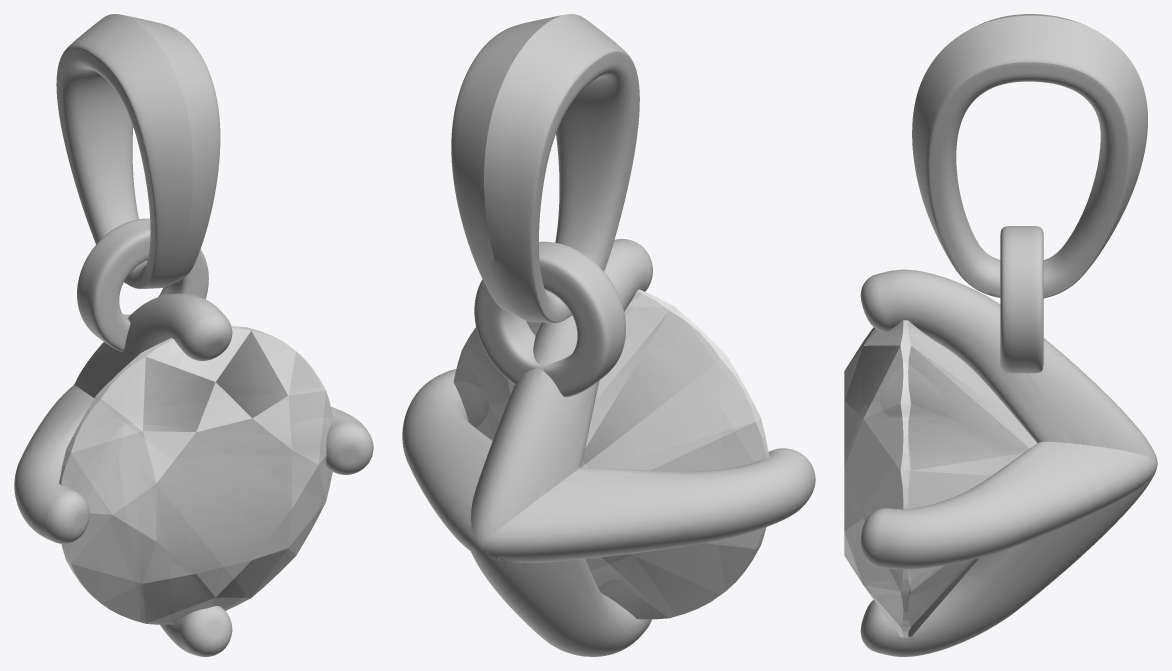
The model's file is Charm Type 1.glb.
The picture shows the model from 3 angles, left to right: view 1: azimuth 30°, elevation 25°; view 2: azimuth 150°, elevation 25°; view 3: azimuth 270°, elevation 25°; orthographic projection. The views are drawn at different scales.
Parts seen in each view (by area): view 1: Object_2.002, Object_11.001, Object_9.001; view 2: Object_9.001, Object_11.001, Object_2.002; view 3: Object_9.001, Object_2.002, Object_11.001.
Boxes of the visible parts, x1=… form: Object_2.002: x1=59, y1=326, x2=333, y2=624; Object_11.001: x1=56, y1=14, x2=220, y2=288; Object_9.001: x1=14, y1=218, x2=373, y2=656; Object_9.001: x1=402, y1=239, x2=815, y2=656; Object_11.001: x1=451, y1=14, x2=639, y2=322; Object_2.002: x1=453, y1=289, x2=769, y2=619; Object_9.001: x1=860, y1=226, x2=1157, y2=656; Object_2.002: x1=844, y1=320, x2=1036, y2=637; Object_11.001: x1=912, y1=14, x2=1147, y2=298.
Bounding box in the file's own units: 0.6057 × 1.01 × 0.4502.
Materials: 2 (1 with a texture image).
